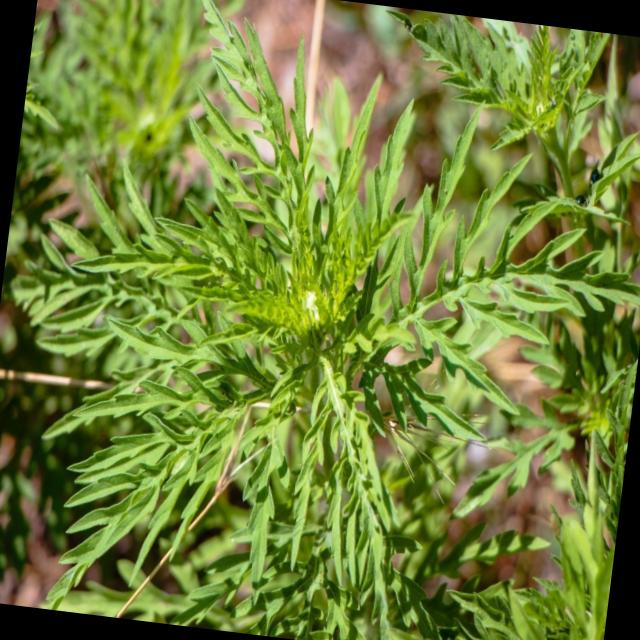ambrosia: (104, 64, 554, 552)
